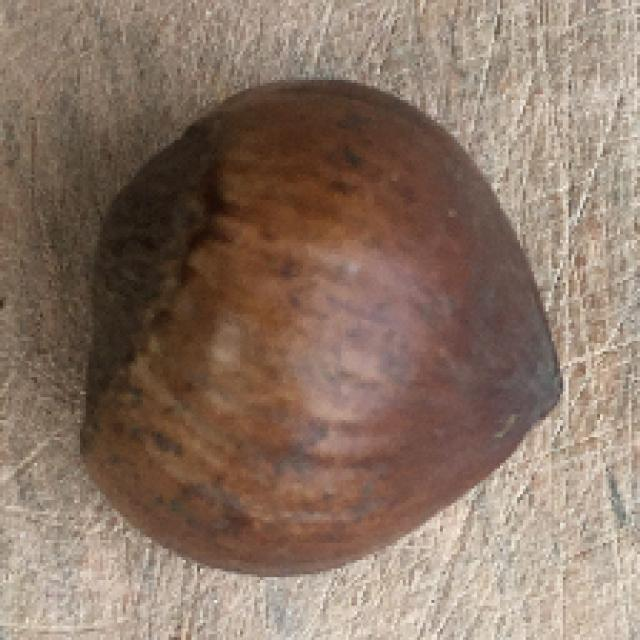DamagedHazelnut: (80, 76, 566, 575)
